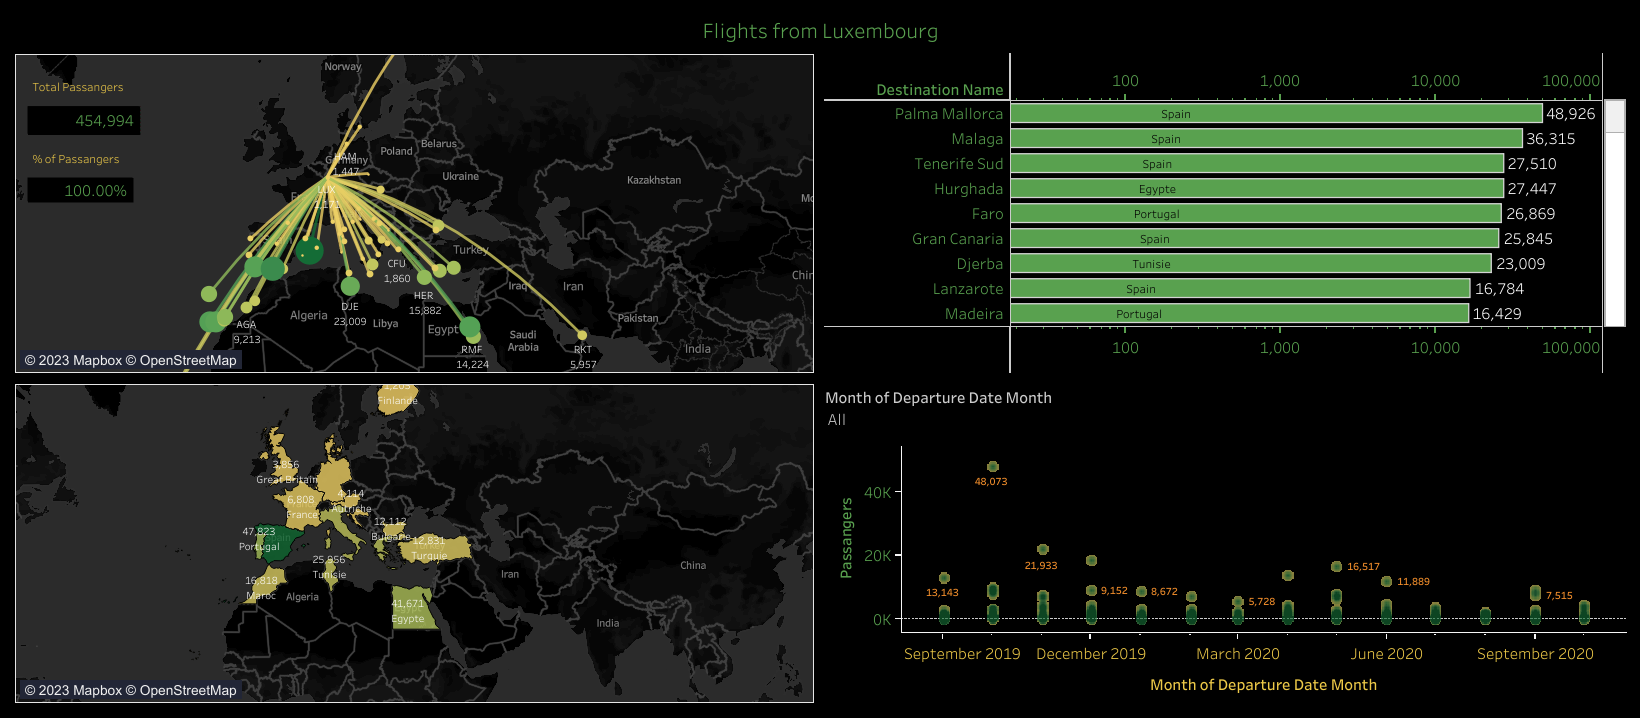

The dashboard page shown, as its layout file describes it:
{"tool":"tableau","page":{"name":"Dashboard 2","canvas":[1000,1000],"units":"permille","ordinal":1},"visuals":[{"type":"title","box":[5.5,9.4,988.9,42.3]},{"type":"worksheet","title":"Airline Dashboard (2)","mark":"Automatic","box":[5.5,51.7,494.4,469.4]},{"type":"worksheet","title":"Bar Chart","mark":"Bar","rows":["Destination Name"],"cols":["Passangers","Passangers"],"box":[500,51.7,494.5,469.4]},{"type":"worksheet","title":"Sheet 6","mark":"Automatic","box":[16.6,98.7,67.8,88.1]},{"type":"worksheet","title":"% of Passangers","mark":"Automatic","box":[16.6,198.6,64.4,82.3]},{"type":"worksheet","title":"Country Map","mark":"Multipolygon","box":[5.5,521.1,494.4,469.4]},{"type":"filter","title":"Sheet 4","param":"[federated.17w16uy05jxx08142n1h01r59m4j].[mn:Departure Date Month:ok]","box":[500,521.1,494.5,88.1]},{"type":"worksheet","title":"Sheet 4","mark":"Heatmap","rows":["Passangers"],"cols":["Departure Date Month"],"box":[500,609.2,494.5,381.4]}]}

Visuals, with their boxes on the dashboard's canvas, which has no fixed pixel size, in thousandths of its width and height (x1, y1, x2, y2). These are canvas units, not pixel positions in the 1640x718 screenshot, which may show the page scaled, cropped or inside an application window:
title: detection(6, 9, 994, 52)
"Airline Dashboard (2)" worksheet: detection(6, 52, 500, 521)
"Bar Chart" worksheet (Bar marks): detection(500, 52, 994, 521)
"Sheet 6" worksheet: detection(17, 99, 84, 187)
"% of Passangers" worksheet: detection(17, 199, 81, 281)
"Country Map" worksheet (Multipolygon marks): detection(6, 521, 500, 990)
"Sheet 4" filter: detection(500, 521, 994, 609)
"Sheet 4" worksheet (Heatmap marks): detection(500, 609, 994, 991)
